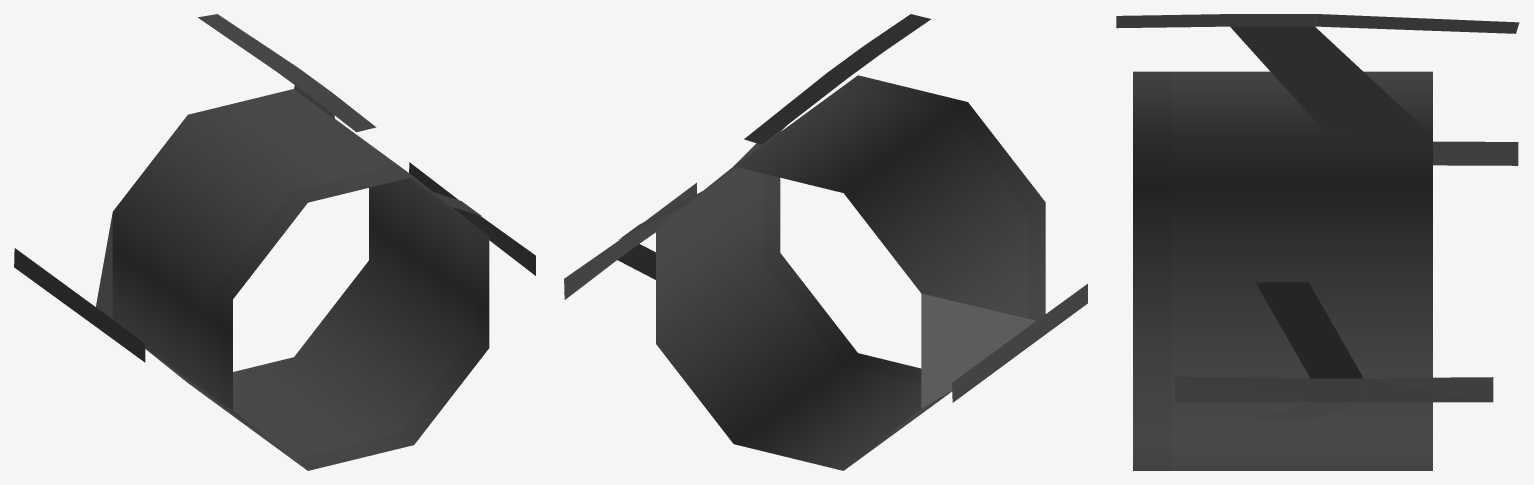
File: stat_middle1.glb
The picture shows the model from 3 angles, left to right: view 1: azimuth 30°, elevation 25°; view 2: azimuth 150°, elevation 25°; view 3: azimuth 270°, elevation 25°; orthographic projection. The views are drawn at different scales.
Visible parts, largest first — view 1: group_13; view 2: group_13; view 3: group_13.
Boxes of the visible parts, box(x1,y1,x2,y2) form: group_13: box(14, 14, 535, 470); group_13: box(564, 14, 1087, 470); group_13: box(1116, 14, 1519, 470).
Bounding box in the file's own units: 11392 × 9452 × 8260.
Materials: 1 (1 with a texture image).
